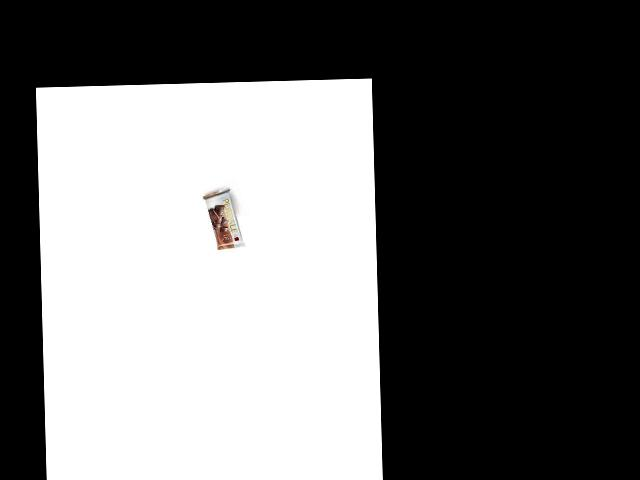chocolate: (198, 192, 246, 250)
